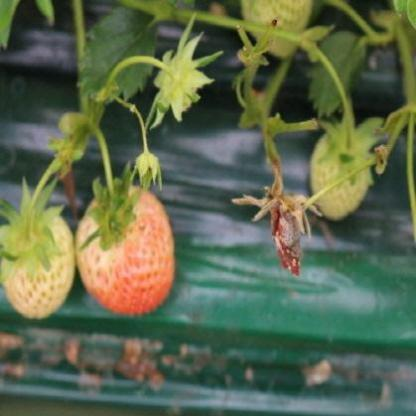Strawberry_Gray_Mold: (233, 181, 321, 278)
